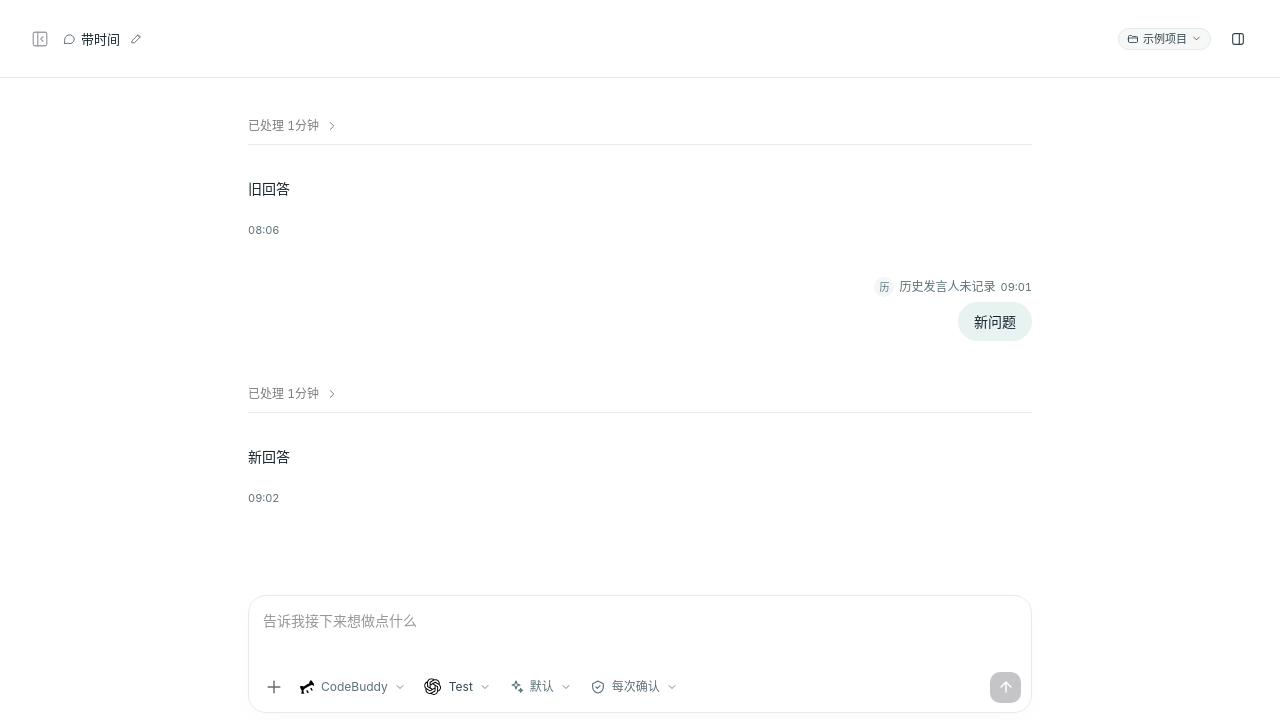
Test case: App › questions and replies show when they were sent, and the header switches project
The width and height of the screenshot is (1280, 720).
Later steps or results of the test are not shown.
(page scrolled)
What coordinates should you click on to do the following:
click the button with aria-label "当前项目：示例项目，切换项目"
I would click on:
 (1164, 38)
Its box is [1118,28,1211,50].
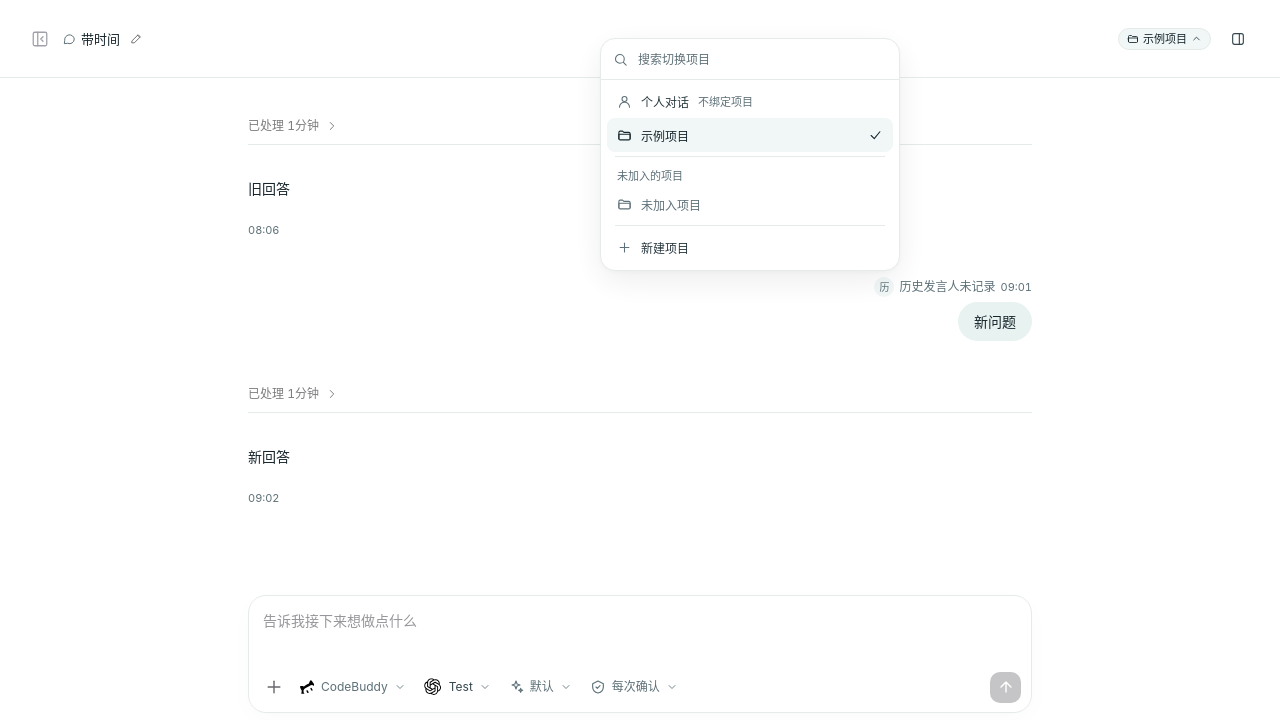
Result: the list named "切换项目" is shown at [601,80,899,270]
